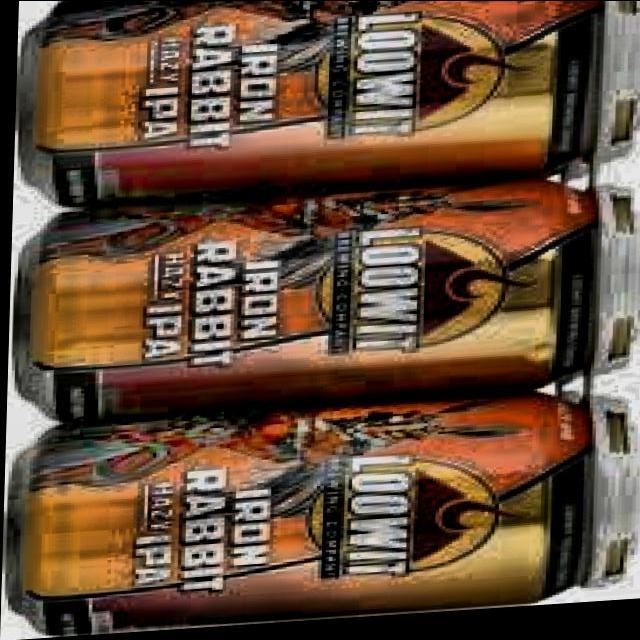litter: (0, 391, 640, 640), (5, 180, 640, 426), (10, 0, 640, 216)
